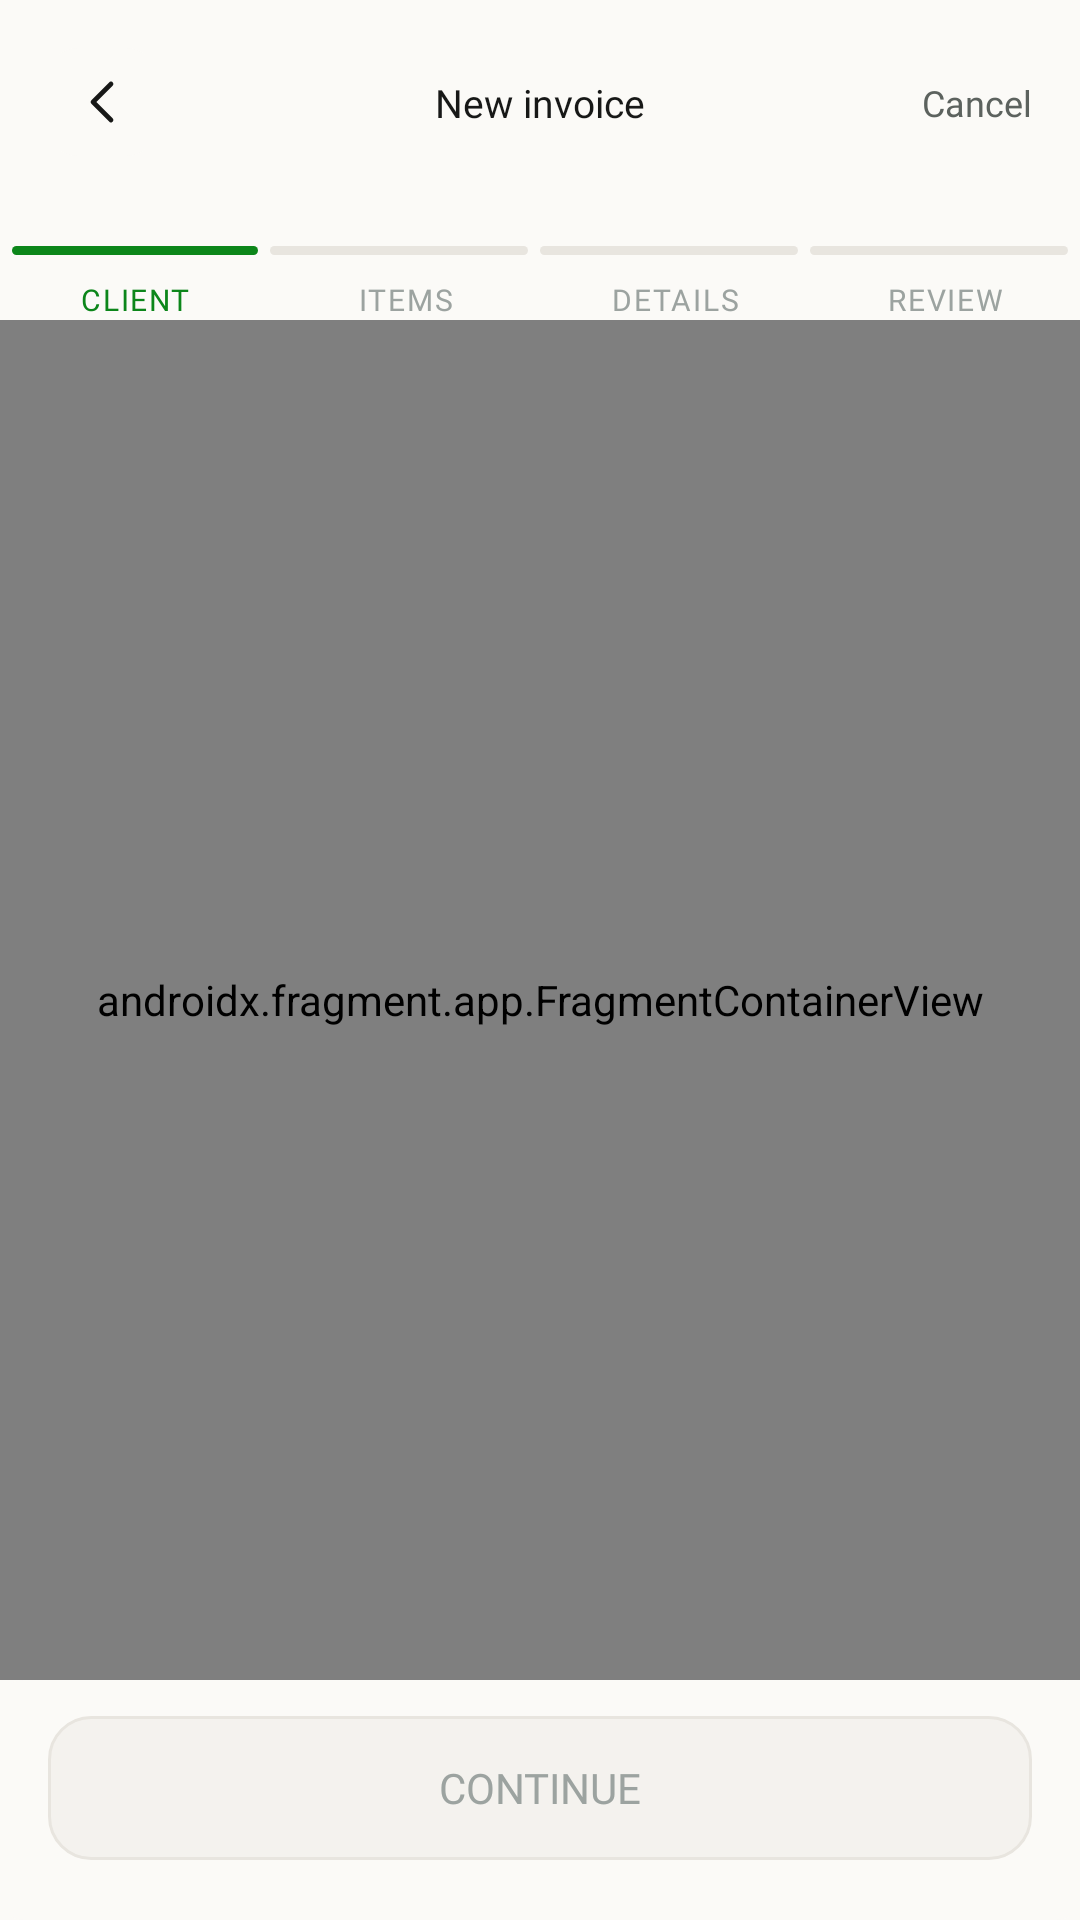

Where to tap for icons on this 1080 x 1920 app screen, as [x,y]:
back: [102,102]
